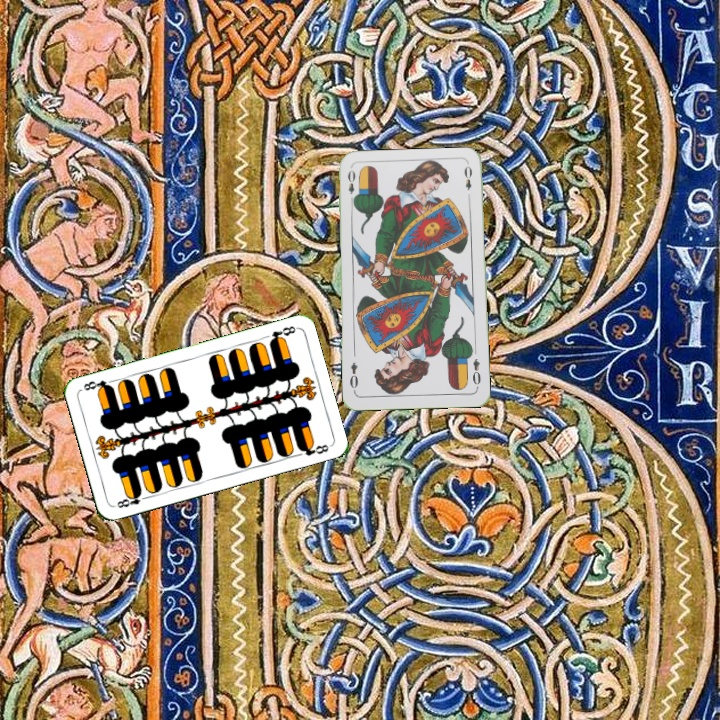E8: (113, 488, 151, 511), (265, 322, 299, 346)
EO: (344, 166, 359, 206), (468, 355, 483, 391)
